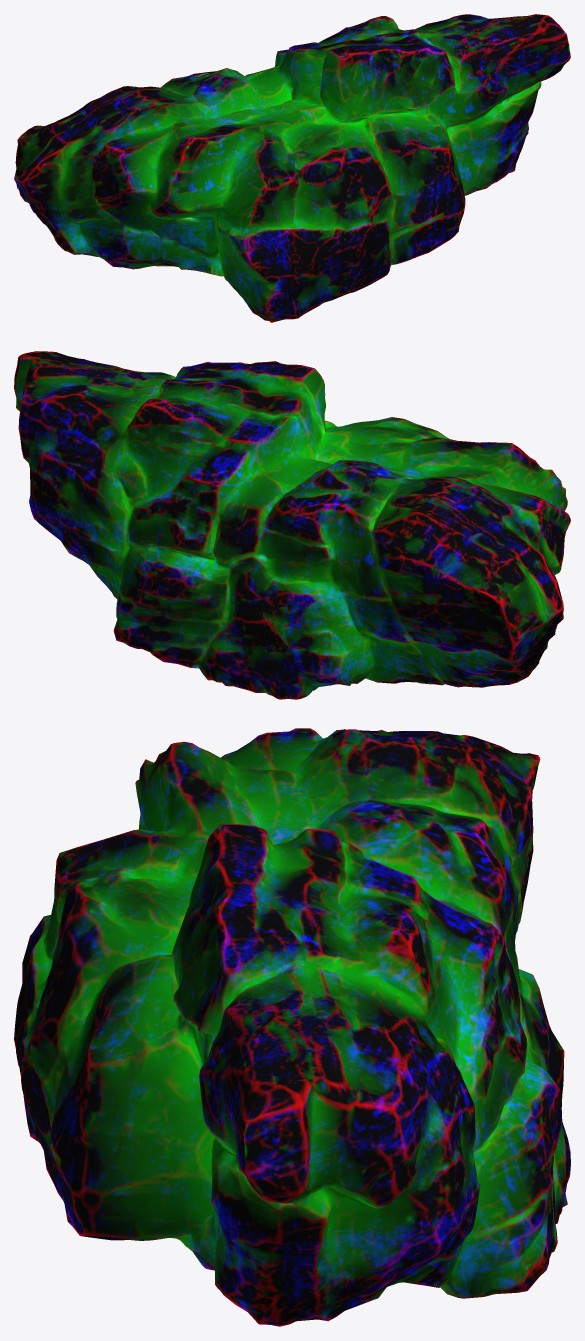
Rendered from MSH_fwOF_Rock_L_03.fbx.
3 views of the same model, one above another, from view 1: azimuth 30°, elevation 25°; view 2: azimuth 150°, elevation 25°; view 3: azimuth 270°, elevation 25° (orthographic). The views are drawn at different scales.
Visible parts, largest first — view 1: MSH_fwOF_Rock_L_03_LOD0; view 2: MSH_fwOF_Rock_L_03_LOD0; view 3: MSH_fwOF_Rock_L_03_LOD0.
Part boxes in pixels (x1=…): MSH_fwOF_Rock_L_03_LOD0: x1=14, y1=14, x2=570, y2=322; MSH_fwOF_Rock_L_03_LOD0: x1=14, y1=351, x2=570, y2=699; MSH_fwOF_Rock_L_03_LOD0: x1=14, y1=728, x2=570, y2=1326.
Size of what is drawn, in the model's own units: 15.88 by 6.72 by 7.83.
